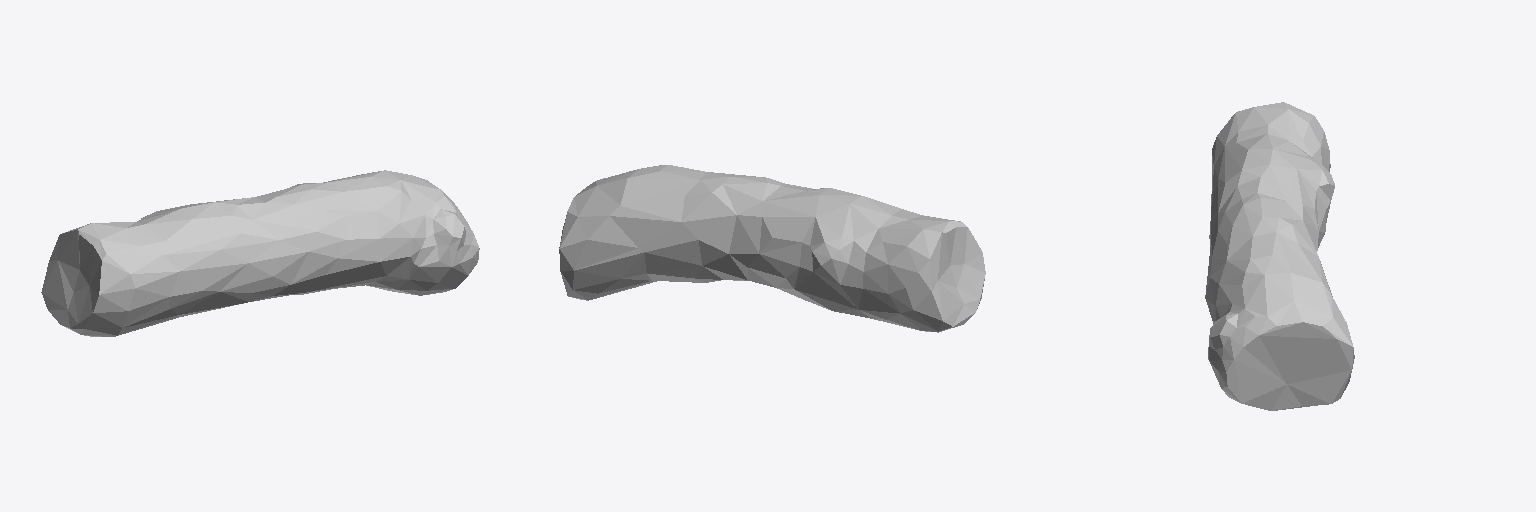
The model's file is wood2.obj.
3 renders of one model, left to right at view 1: azimuth 30°, elevation 25°; view 2: azimuth 150°, elevation 25°; view 3: azimuth 270°, elevation 25°, orthographic.
Visible parts, largest first — view 1: lod0.003_Circle.002_Circle.005; view 2: lod0.003_Circle.002_Circle.005; view 3: lod0.003_Circle.002_Circle.005.
Boxes of the visible parts, box(x1,y1,x2,y2) form: lod0.003_Circle.002_Circle.005: box(41, 170, 479, 336); lod0.003_Circle.002_Circle.005: box(559, 165, 985, 332); lod0.003_Circle.002_Circle.005: box(1205, 102, 1354, 410).
Size of the model in its own units: 0.6863 by 0.23 by 0.2257.